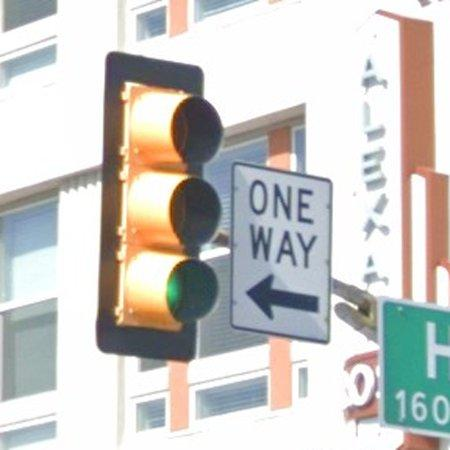traffic lights: (98, 52, 222, 361)
